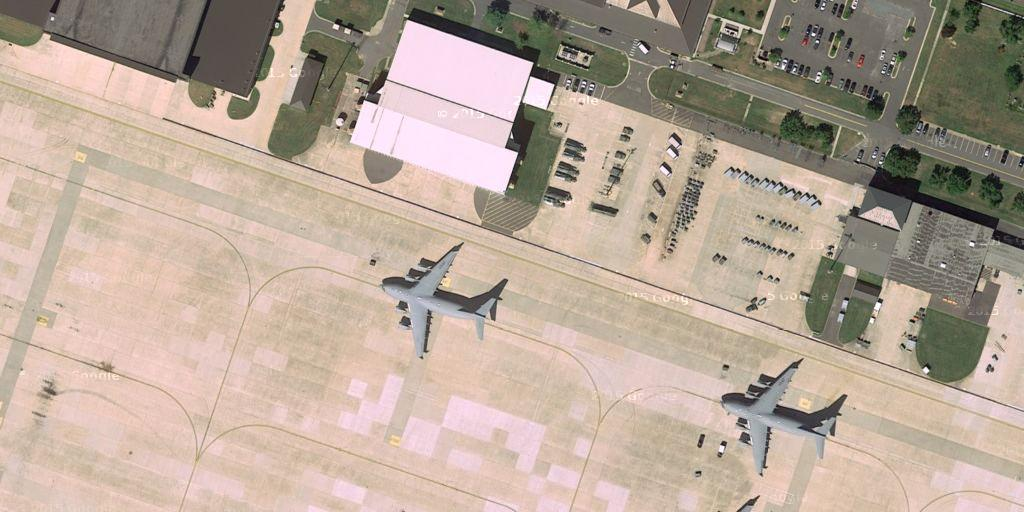C-17: (719, 354, 846, 479), (374, 241, 504, 360)
